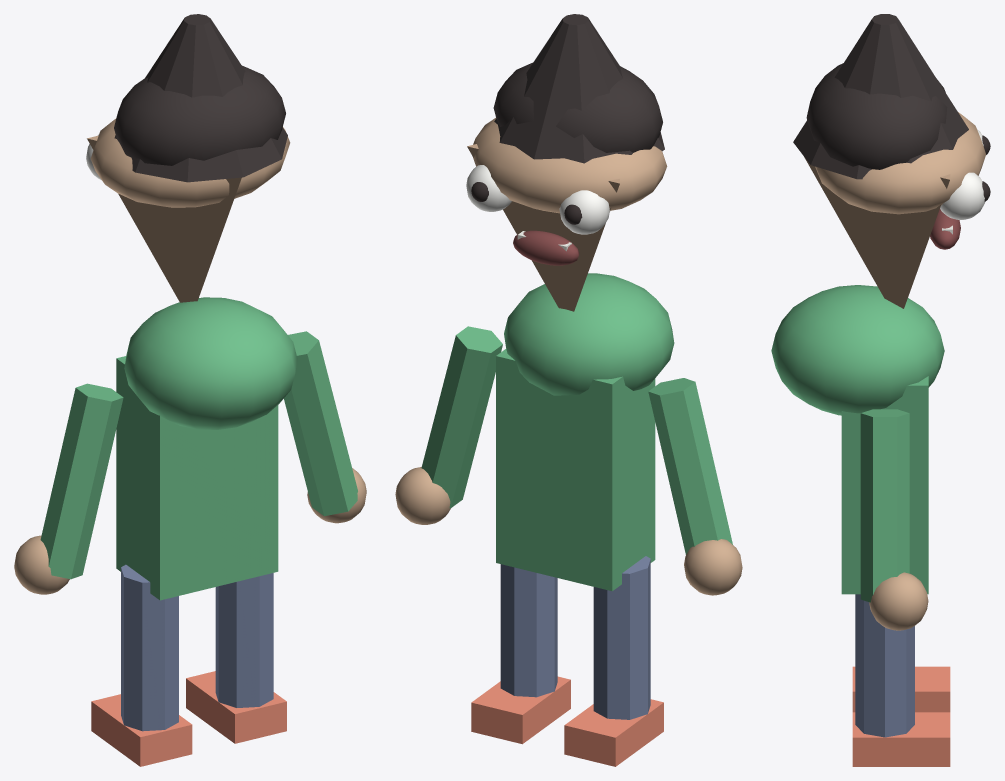
Rendered from P4_Slice.fbx.
3 views of the same model, side by side, from view 1: azimuth 30°, elevation 25°; view 2: azimuth 150°, elevation 25°; view 3: azimuth 270°, elevation 25° (orthographic).
Parts seen in each view (by area): view 1: Torso, Head, LegL, LegR, ArmL, ArmR; view 2: Torso, Head, LegL, LegR, ArmL, ArmR; view 3: Head, Torso, ArmR, LegR, LegL.
Boxes of the visible parts, box(x1,y1,x2,y2) form: Torso: box(116, 297, 297, 600); Head: box(86, 14, 290, 302); LegL: box(91, 564, 192, 766); LegR: box(186, 573, 286, 743); ArmL: box(14, 383, 123, 594); ArmR: box(284, 331, 366, 523); Torso: box(496, 273, 674, 591); Head: box(466, 14, 667, 311); LegL: box(564, 556, 663, 766); LegR: box(471, 564, 570, 744); ArmL: box(648, 378, 742, 595); ArmR: box(395, 326, 502, 524); Head: box(793, 14, 990, 308); Torso: box(771, 285, 944, 594); ArmR: box(860, 409, 928, 630); LegR: box(852, 594, 950, 766); LegL: box(852, 666, 950, 712).
Bounding box in the file's own units: 146 × 290 × 80.92.
